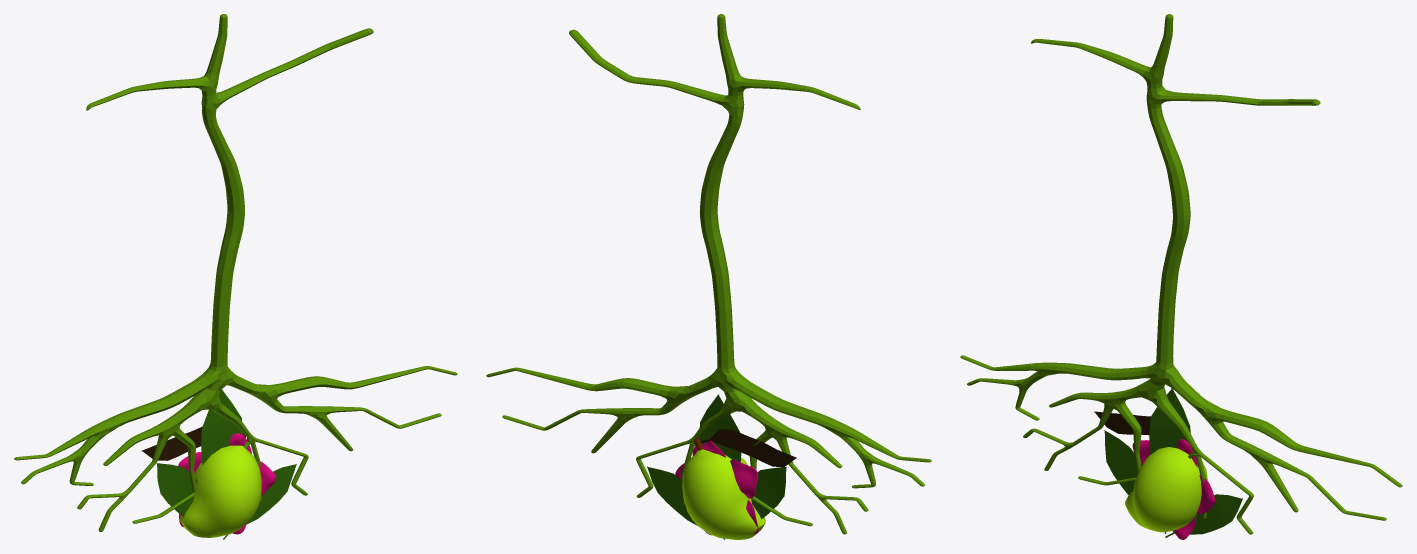
The model's file is stem2.gltf.
3 renders of one model, left to right at view 1: azimuth 30°, elevation 25°; view 2: azimuth 150°, elevation 25°; view 3: azimuth 330°, elevation 25°, orthographic.
Parts seen in each view (by area): view 1: Cube, Plane.003, Plane.002, uploads_files_635005_Flower01; view 2: Cube, Plane.003, Plane.002, uploads_files_635005_Flower01; view 3: Cube, Plane.003, Plane.002, uploads_files_635005_Flower01.
Boxes of the visible parts, x1,y1,x2,y2 form: Cube: (14, 14, 457, 531); Plane.003: (141, 426, 261, 537); Plane.002: (156, 389, 296, 539); uploads_files_635005_Flower01: (178, 433, 276, 534); Cube: (486, 14, 931, 534); Plane.003: (682, 429, 796, 539); Plane.002: (647, 394, 786, 539); uploads_files_635005_Flower01: (675, 438, 758, 535); Cube: (960, 14, 1402, 534); Plane.003: (1094, 411, 1207, 532); Plane.002: (1104, 388, 1242, 537); uploads_files_635005_Flower01: (1132, 439, 1214, 539).
Bounding box in the file's own units: 3.64 × 4.12 × 0.558.
